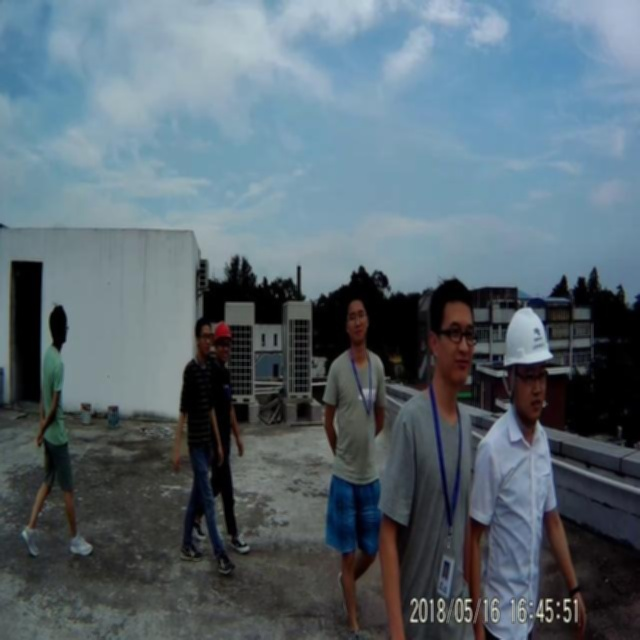Con_Casco: (505, 307, 553, 422)
Sin_Casco_Mascarrilla: (432, 275, 475, 386)
Sin_Chaleco: (393, 391, 471, 594), (475, 414, 560, 595), (323, 346, 387, 488)
